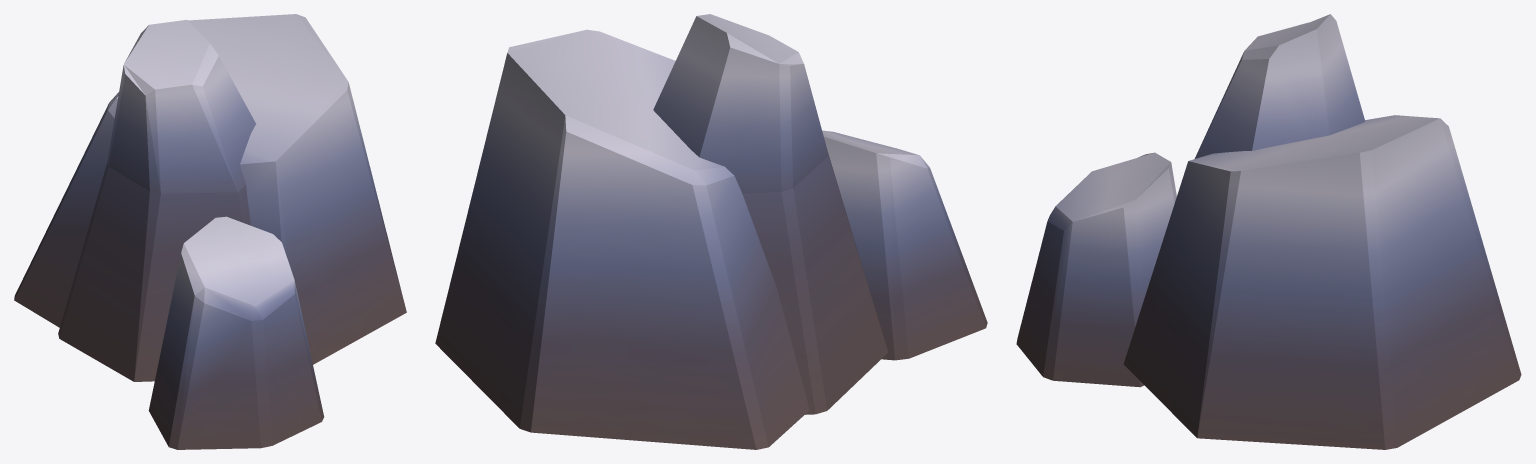
File: block_mountain_1_2.fbx
3 renders of one model, left to right at view 1: azimuth 30°, elevation 25°; view 2: azimuth 150°, elevation 25°; view 3: azimuth 270°, elevation 25°, orthographic. The views are drawn at different scales.
Visible parts, largest first — view 1: block_mountain_1_2; view 2: block_mountain_1_2; view 3: block_mountain_1_2.
Part boxes in pixels (x1,y1,x2,y2): block_mountain_1_2: (14,14,406,449); block_mountain_1_2: (435,14,987,449); block_mountain_1_2: (1016,14,1521,449).
Bounding box in the file's own units: 54.21 × 51.02 × 68.1.
